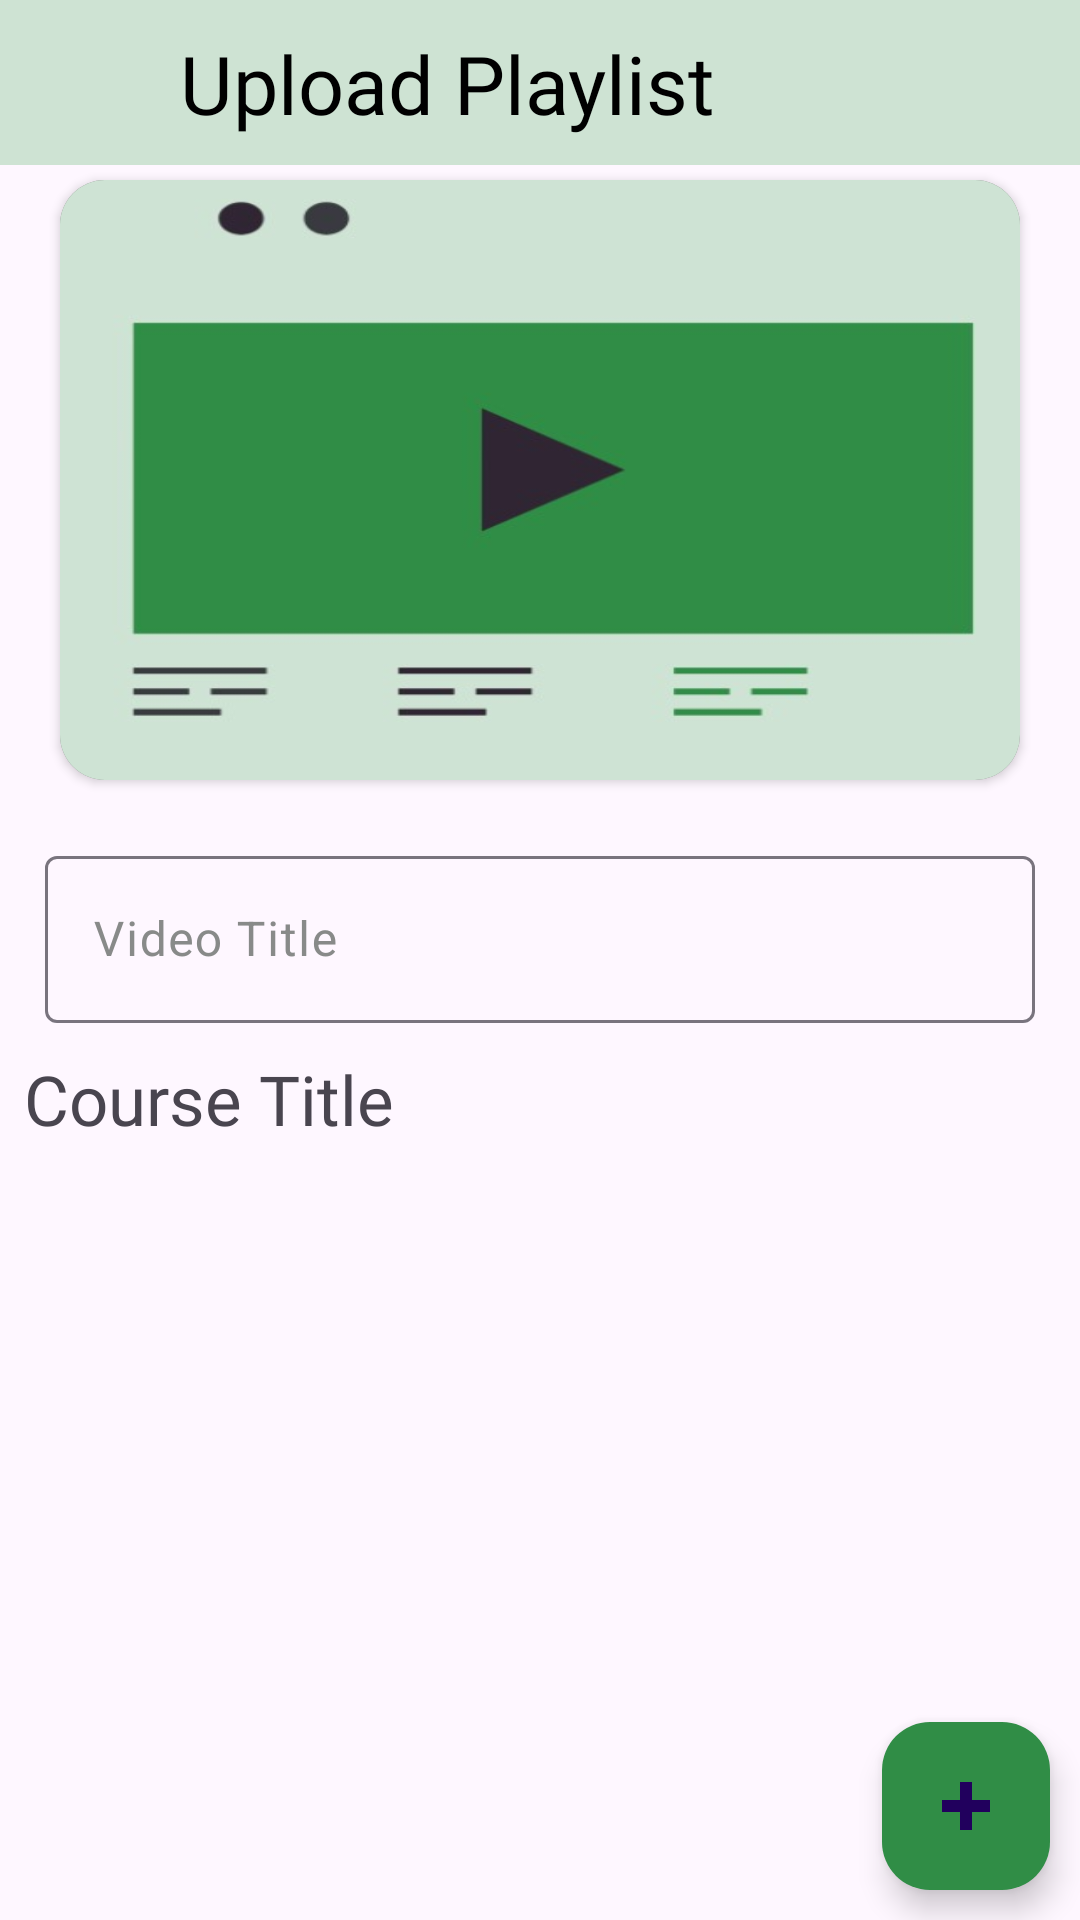

Icon click points for this 1080*1920 phone screenshot, format [x,y]:
plus: [966,1806]
